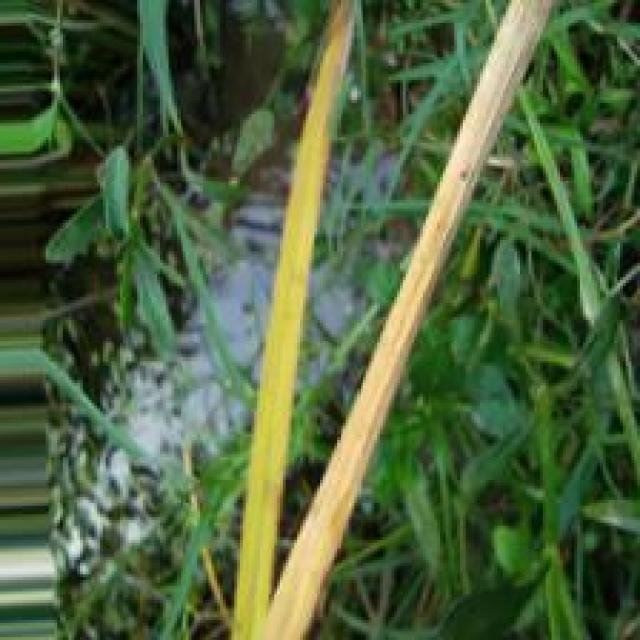Bacterial_Leaf_Blight: (272, 0, 558, 600)
